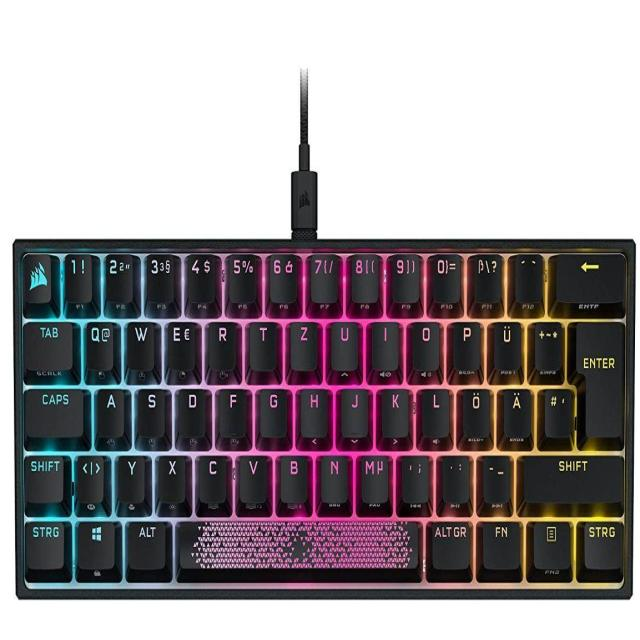0: (428, 250, 463, 305)
1: (64, 249, 93, 303)
2: (103, 250, 134, 307)
3: (143, 249, 176, 308)
4: (184, 250, 217, 306)
5: (225, 250, 258, 304)
6: (267, 250, 299, 304)
7: (309, 249, 339, 302)
8: (348, 249, 380, 303)
9: (388, 250, 421, 303)
a: (94, 384, 124, 437)
accent: (512, 249, 543, 304)
ae: (501, 384, 531, 438)
alt-left: (126, 516, 167, 570)
altgr-right: (428, 518, 471, 571)
b: (278, 450, 309, 502)
c: (196, 450, 227, 502)
comma: (398, 449, 428, 502)
d: (176, 384, 207, 437)
del: (552, 249, 626, 302)
e: (163, 317, 197, 372)
enter: (573, 316, 624, 441)
f: (217, 384, 246, 436)
g: (258, 384, 287, 435)
h: (299, 384, 328, 436)
hash: (542, 383, 572, 437)
i: (369, 316, 399, 369)
j: (339, 383, 368, 436)
k: (380, 383, 409, 437)
keyboard: (12, 233, 635, 604)
l: (420, 384, 449, 436)
less: (75, 450, 104, 502)
m: (358, 451, 389, 505)
minus: (480, 450, 510, 503)
n: (319, 449, 349, 503)
o: (410, 316, 440, 369)
oe: (460, 384, 490, 438)
p: (450, 316, 481, 370)
plus: (532, 316, 563, 375)
point: (440, 450, 469, 502)
q: (84, 318, 116, 373)
r: (206, 316, 238, 370)
s: (135, 384, 165, 436)
shift-left: (23, 451, 64, 503)
shift-lock: (22, 384, 84, 437)
shift-right: (519, 451, 624, 504)
space: (173, 516, 423, 577)
ss: (470, 250, 502, 305)
strg-left: (23, 517, 66, 572)
strg-right: (581, 517, 625, 570)
t: (248, 317, 278, 369)
tab: (22, 317, 73, 370)
u: (329, 316, 358, 370)
ue: (491, 317, 521, 371)
v: (238, 450, 268, 502)
w: (125, 317, 155, 371)
x: (156, 450, 186, 503)
y: (115, 450, 145, 503)
z: (288, 316, 318, 370)
